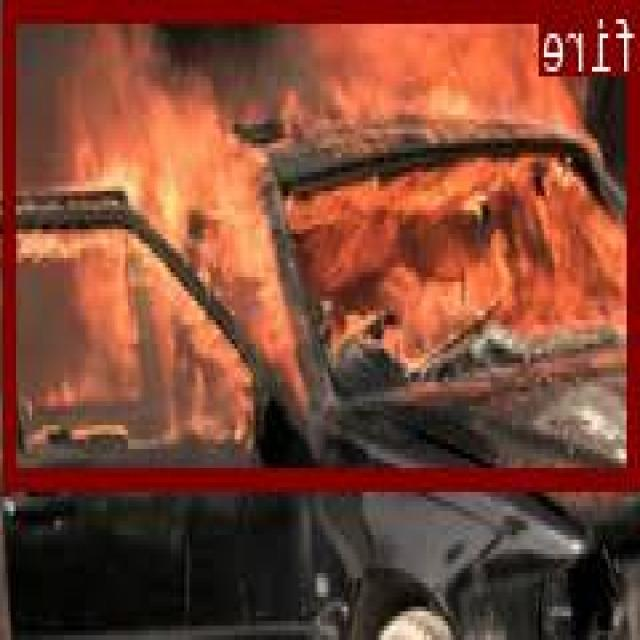fire: (5, 0, 640, 487)
